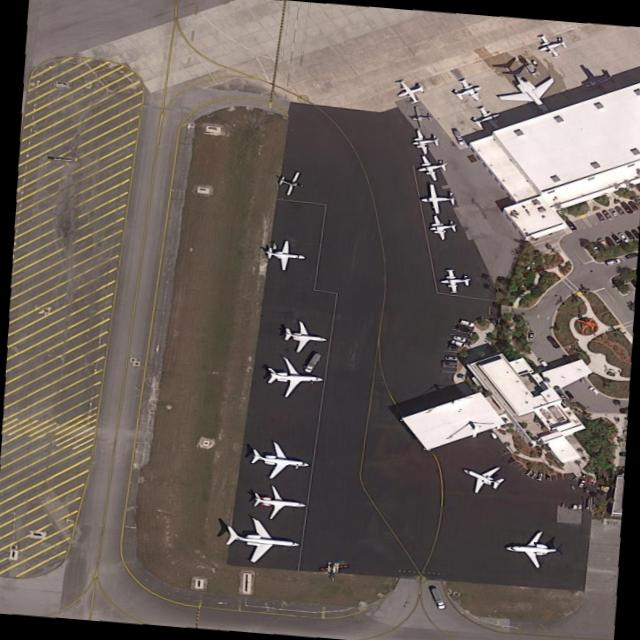large-vehicle: (427, 587, 446, 610), (302, 352, 321, 373), (451, 130, 465, 145)
plane: (479, 57, 575, 121), (225, 516, 301, 565), (450, 455, 512, 499), (264, 355, 324, 400), (248, 440, 310, 481), (502, 530, 561, 569), (250, 482, 307, 521), (281, 319, 328, 355), (572, 63, 620, 97), (264, 238, 307, 272), (445, 75, 490, 106), (410, 152, 454, 183), (416, 182, 457, 215), (465, 104, 508, 135), (388, 76, 431, 106), (531, 31, 573, 61), (272, 168, 310, 198), (424, 213, 461, 242), (406, 128, 444, 155), (436, 269, 475, 293), (408, 105, 434, 128)
small-vehicle: (617, 200, 633, 214), (454, 324, 473, 335), (587, 241, 601, 255), (595, 238, 610, 251), (624, 199, 638, 212), (602, 258, 620, 267), (563, 219, 576, 231), (601, 209, 614, 221), (572, 401, 586, 412), (587, 386, 600, 397), (615, 232, 628, 243), (609, 234, 622, 245), (593, 212, 605, 223), (535, 357, 548, 367), (449, 339, 463, 348), (622, 230, 633, 241), (603, 236, 614, 247), (445, 344, 460, 352), (451, 334, 466, 342), (612, 206, 624, 216), (440, 360, 457, 367), (457, 320, 474, 327), (562, 391, 574, 400), (607, 209, 619, 217), (487, 432, 497, 440), (577, 376, 587, 384), (443, 355, 457, 360), (577, 480, 585, 488), (527, 330, 533, 340)
